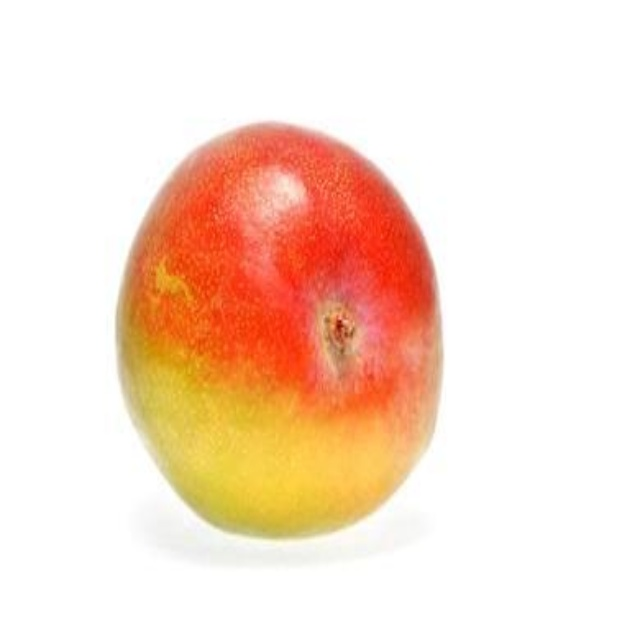mango: (119, 127, 441, 531)
